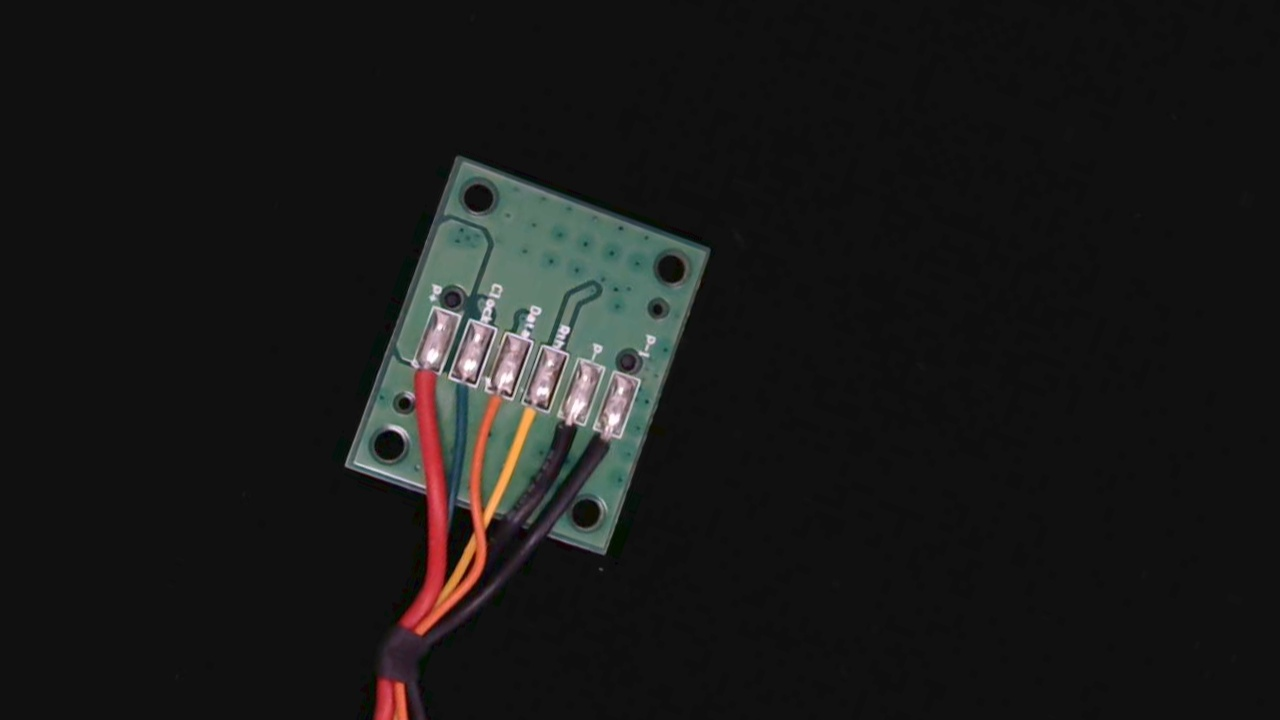Black: (536, 399, 593, 479)
Black1: (574, 413, 628, 487)
Green: (434, 361, 486, 431)
Orange: (462, 374, 518, 453)
Red: (389, 348, 445, 426)
Yellow: (498, 385, 555, 467)
